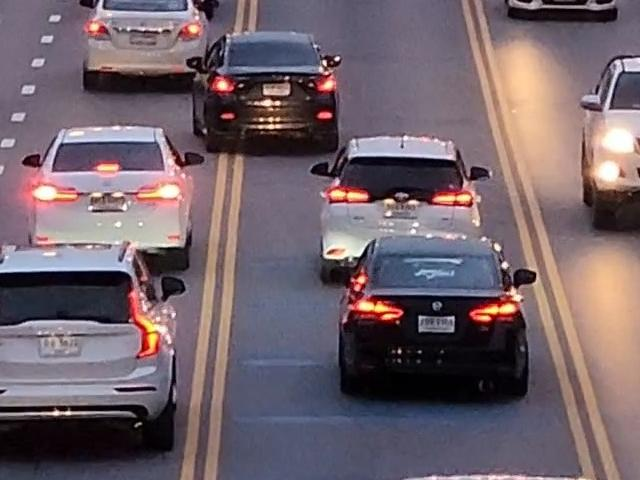car: (0, 234, 196, 451), (320, 235, 553, 395), (27, 122, 210, 275), (316, 127, 492, 271), (194, 34, 332, 154), (576, 48, 640, 235), (82, 0, 202, 67)
